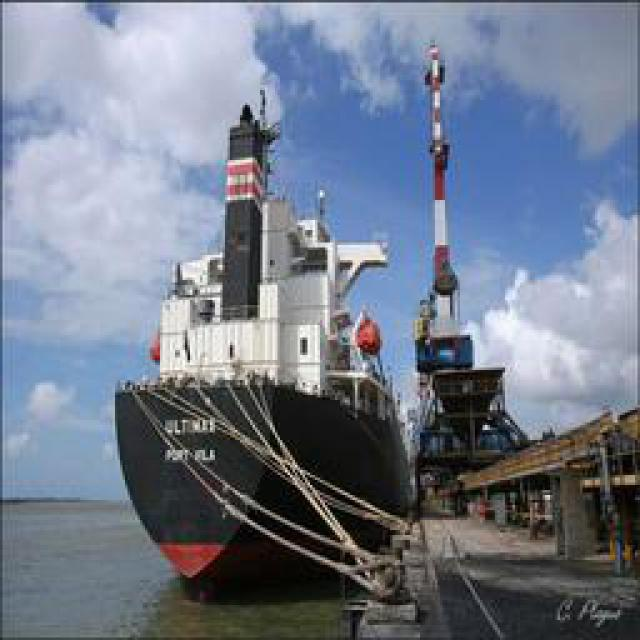Ship: (120, 81, 428, 599)
